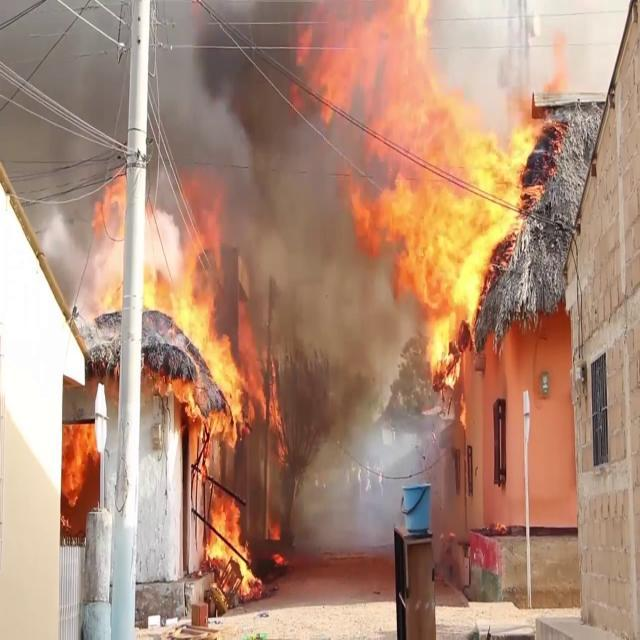Fire: (320, 2, 550, 376), (156, 90, 280, 458), (202, 484, 258, 597), (62, 419, 102, 506)
Smoke: (230, 7, 404, 549), (0, 0, 325, 216)
